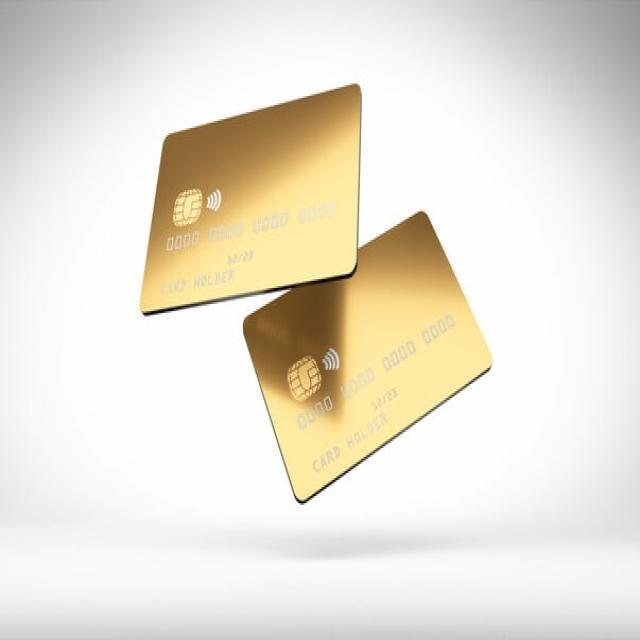payment_card: (241, 209, 493, 503), (138, 81, 362, 315)
